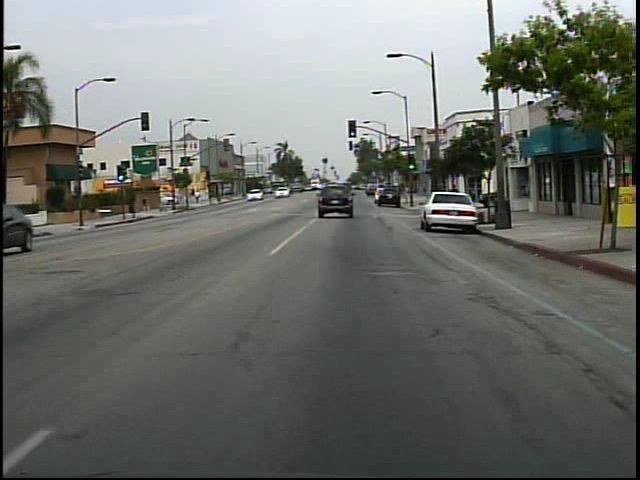person: (444, 179, 465, 217), (137, 191, 156, 220), (194, 188, 203, 207)
